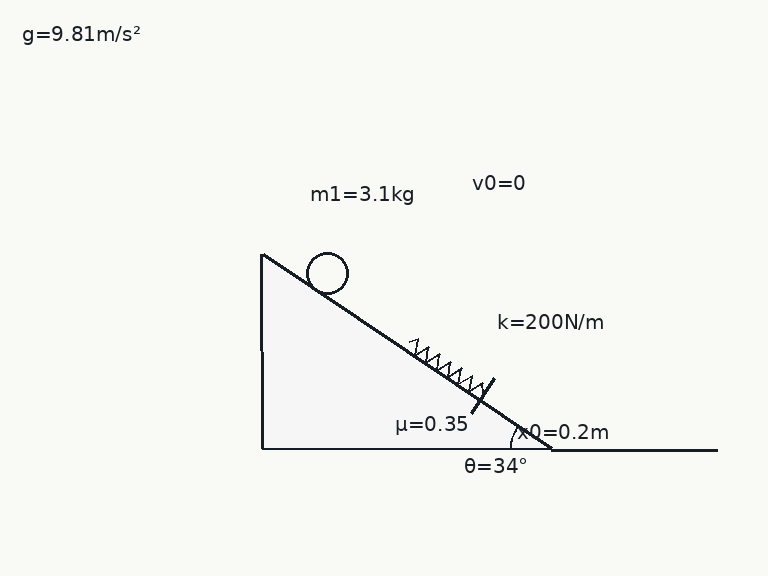ball: (304, 250, 350, 296)
ramp: (260, 252, 553, 451)
spring: (406, 338, 486, 395)
